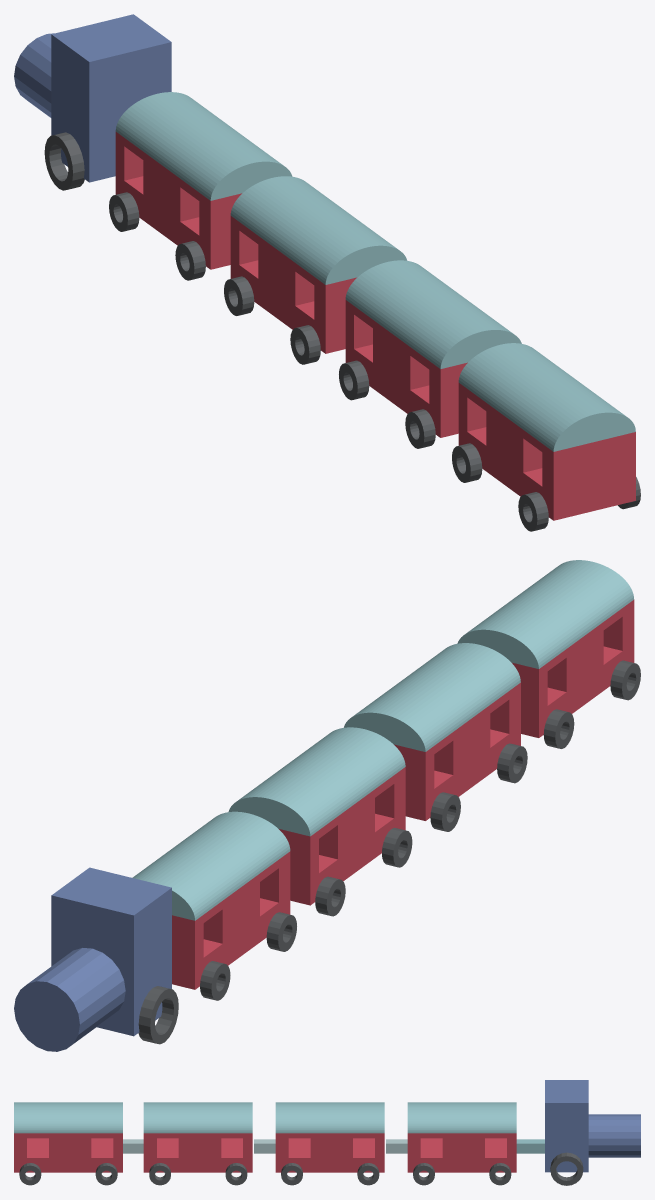
The model's file is train.glb.
The picture shows the model from 3 angles, top to bottom: view 1: azimuth 30°, elevation 25°; view 2: azimuth 150°, elevation 25°; view 3: azimuth 270°, elevation 25°; orthographic projection. The views are drawn at different scales.
Parts seen in each view (by area): view 1: Mesh_Mesh_head_geo.001_lambert2SG.001; view 2: Mesh_Mesh_head_geo.001_lambert2SG.001; view 3: Mesh_Mesh_head_geo.001_lambert2SG.001.
Part boxes in pixels (box(x1,y1,x2,y2)): Mesh_Mesh_head_geo.001_lambert2SG.001: box(14, 14, 640, 531); Mesh_Mesh_head_geo.001_lambert2SG.001: box(14, 560, 640, 1051); Mesh_Mesh_head_geo.001_lambert2SG.001: box(14, 1080, 640, 1185).
Bounding box in the file's own units: 65 × 80 × 575.
